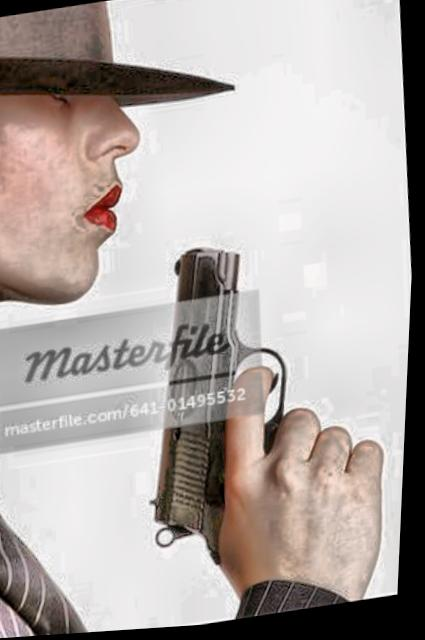pistol: (114, 234, 336, 578)
